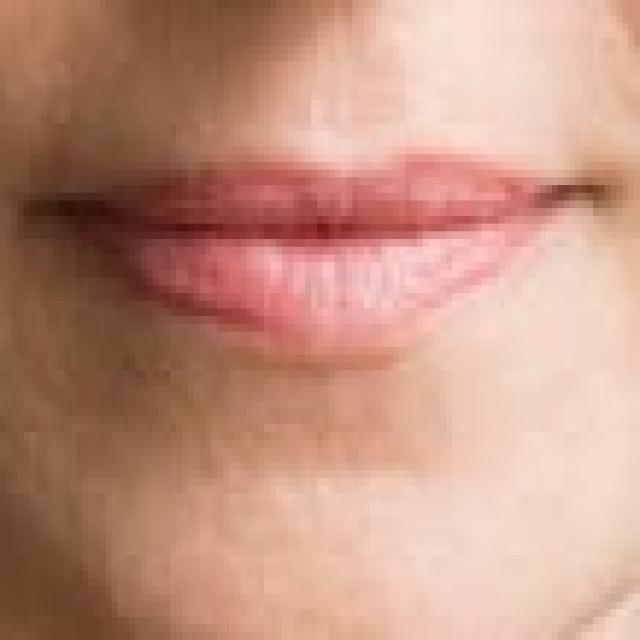closed-mouth: (18, 138, 604, 362)
